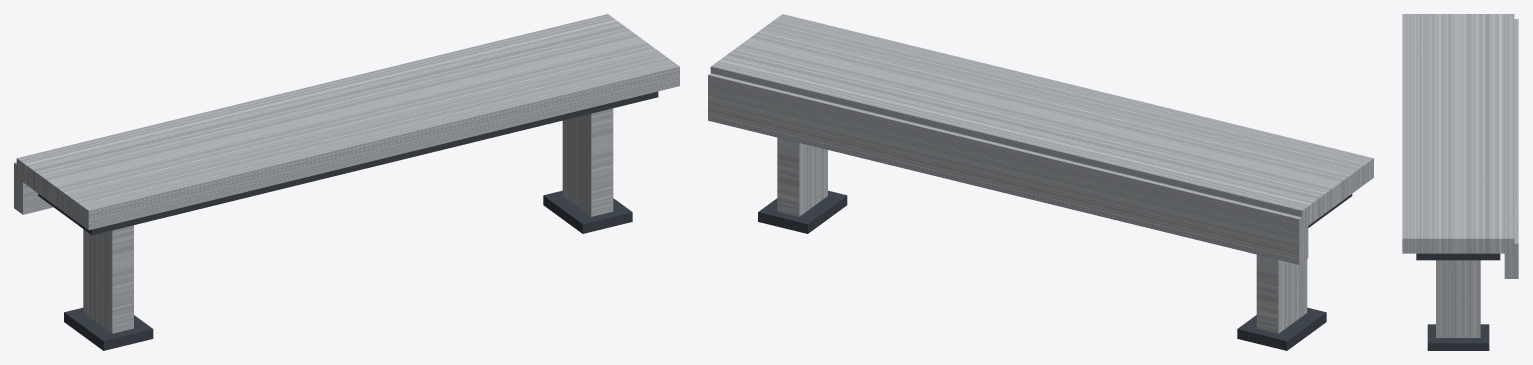
File: bench-steel-2.glb
3 renders of one model, left to right at view 1: azimuth 30°, elevation 25°; view 2: azimuth 150°, elevation 25°; view 3: azimuth 270°, elevation 25°, orthographic. The views are drawn at different scales.
Parts seen in each view (by area): view 1: BenchSteel2; view 2: BenchSteel2; view 3: BenchSteel2.
Boxes of the visible parts, x1,y1,x2,y2 form: BenchSteel2: (14,14,679,350); BenchSteel2: (708,14,1373,350); BenchSteel2: (1402,14,1518,350).
Size of the model in its own units: 1.9 by 0.49 by 0.415.
2 materials, 1 textured.
